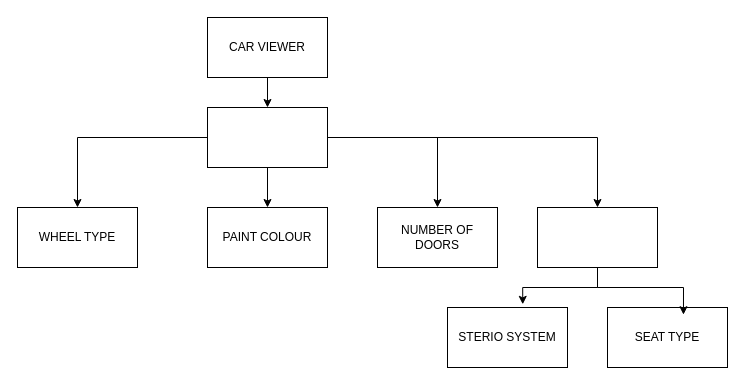
This 745x385 diagram has some shape labels left out. Each missing label, with the centre of its shape:
"CAR MODEL" belongs at (267,137).
"INTERIOR SPECIFICATION" belongs at (597,237).
